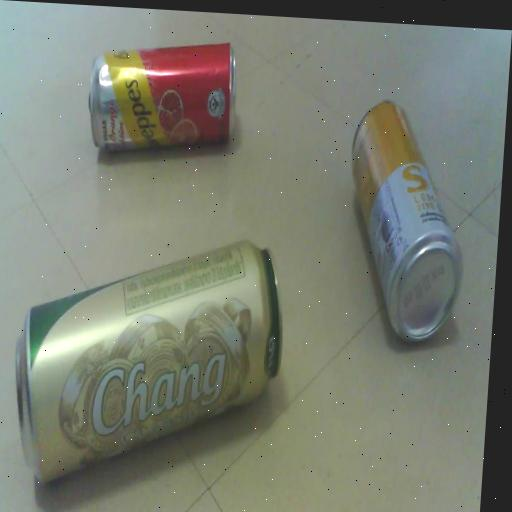canned: (0, 217, 306, 508), (325, 68, 487, 364), (73, 17, 261, 177)
